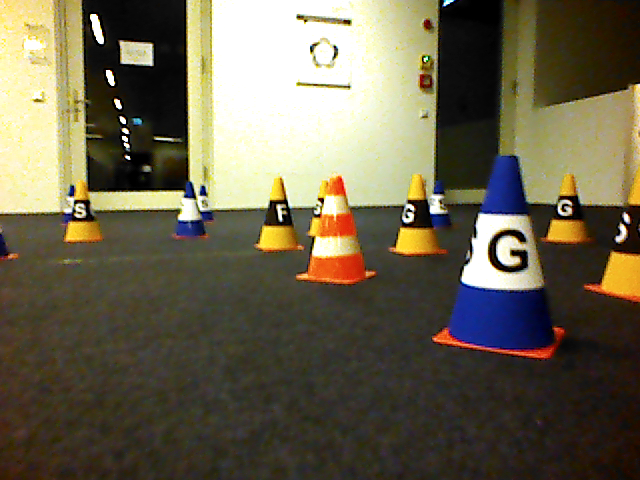orangeconesmall: (298, 175, 377, 285)
yellowcone: (541, 173, 599, 245), (389, 172, 437, 258), (255, 175, 303, 253), (66, 180, 101, 243)
